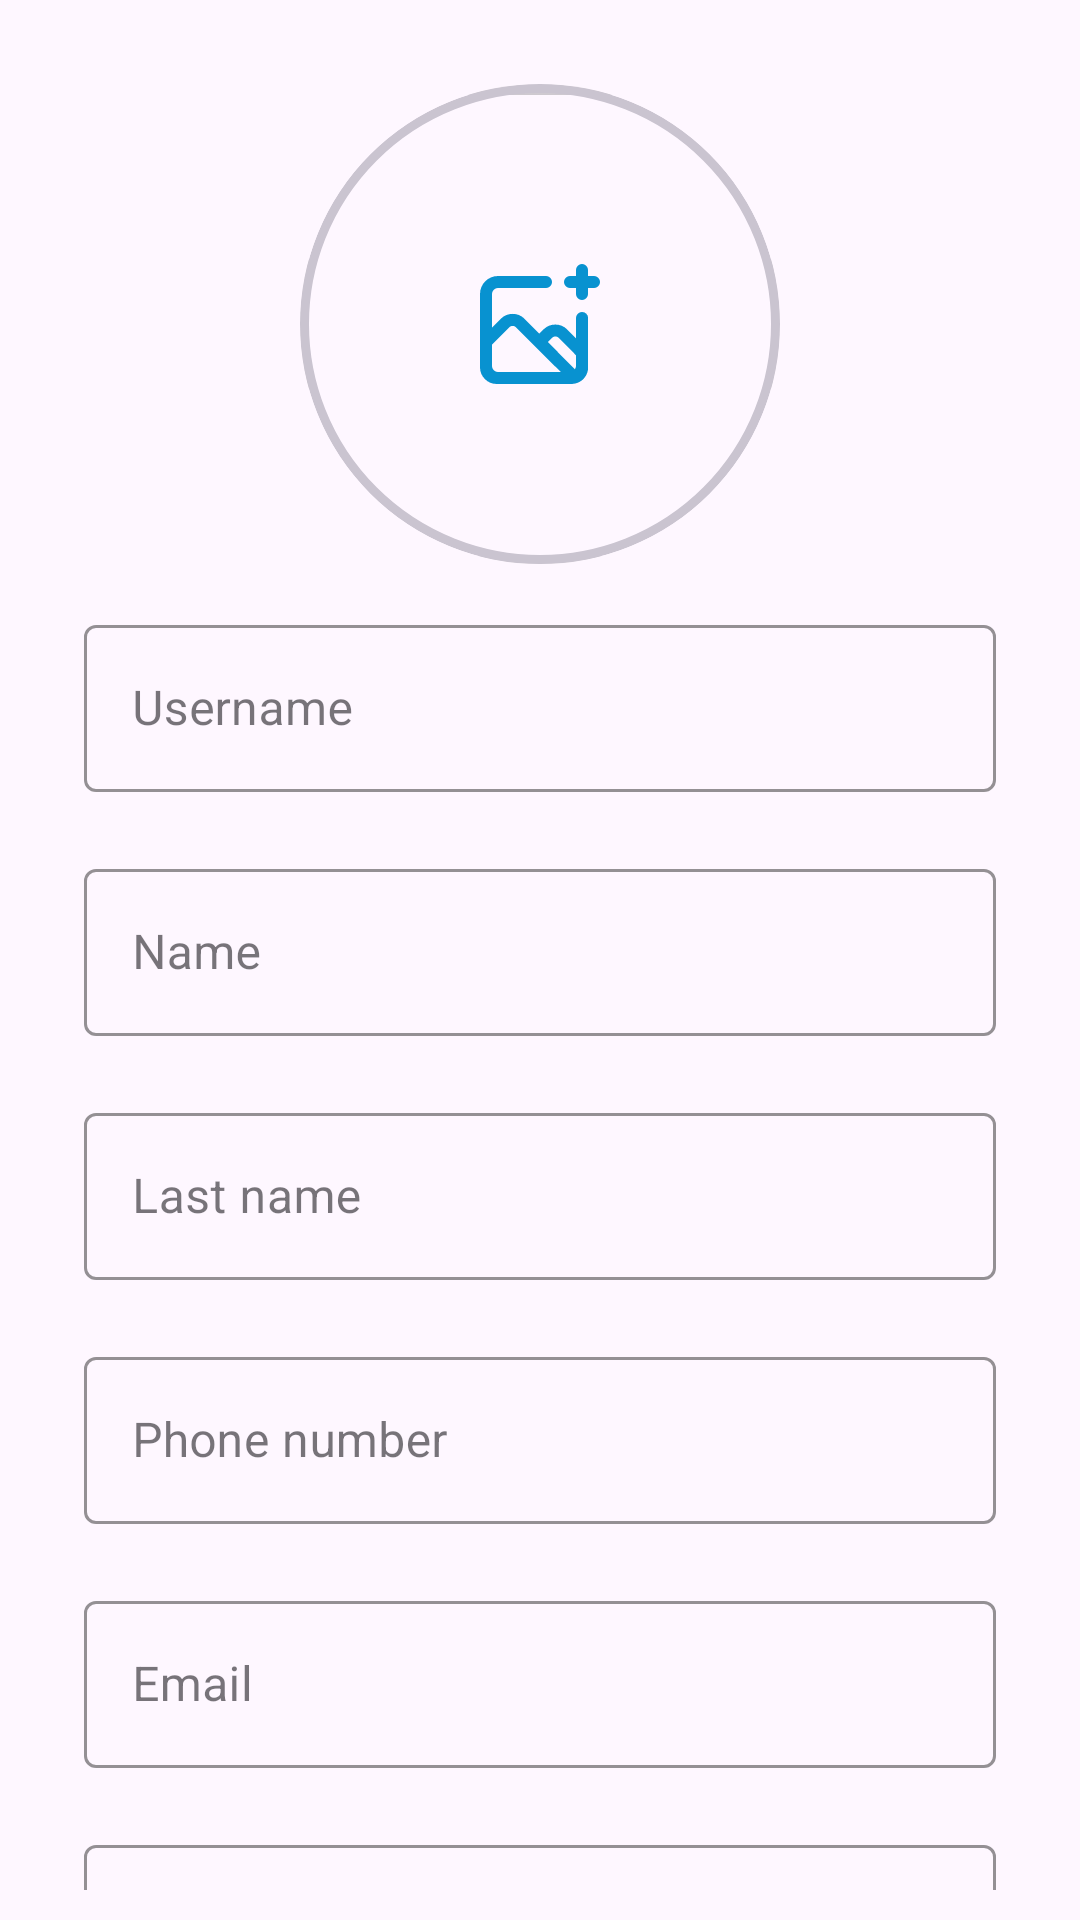

Icons on this 1080px x 1920px Android screen, each with the point to tap as (x,y):
add: (540,324)
